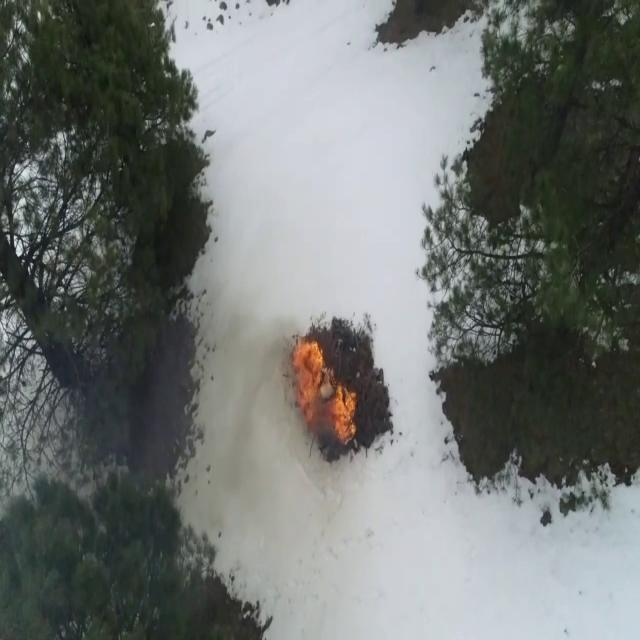fire: (292, 334, 322, 416), (329, 378, 360, 443)
